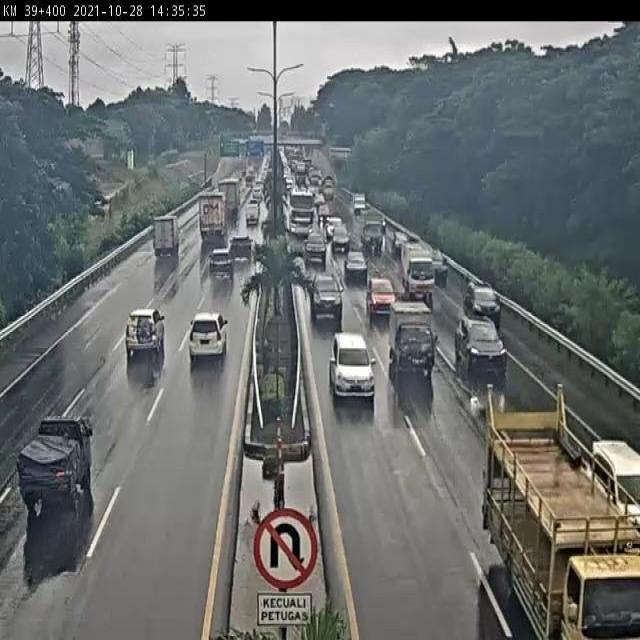big truck: (196, 193, 228, 246), (287, 187, 316, 234), (219, 179, 243, 221)
car: (20, 416, 95, 523), (590, 423, 640, 517), (390, 308, 433, 375), (455, 313, 506, 367), (332, 332, 373, 393), (189, 308, 231, 363), (124, 308, 168, 359), (310, 273, 342, 319), (465, 283, 499, 320), (364, 270, 391, 306), (206, 250, 236, 282), (343, 249, 367, 279), (302, 232, 327, 259), (229, 235, 252, 264), (432, 252, 448, 279), (244, 202, 261, 226), (331, 230, 348, 253), (325, 216, 340, 231), (252, 188, 264, 203)
small truck: (482, 393, 640, 640), (400, 244, 433, 300), (153, 216, 182, 253), (361, 212, 385, 252)
